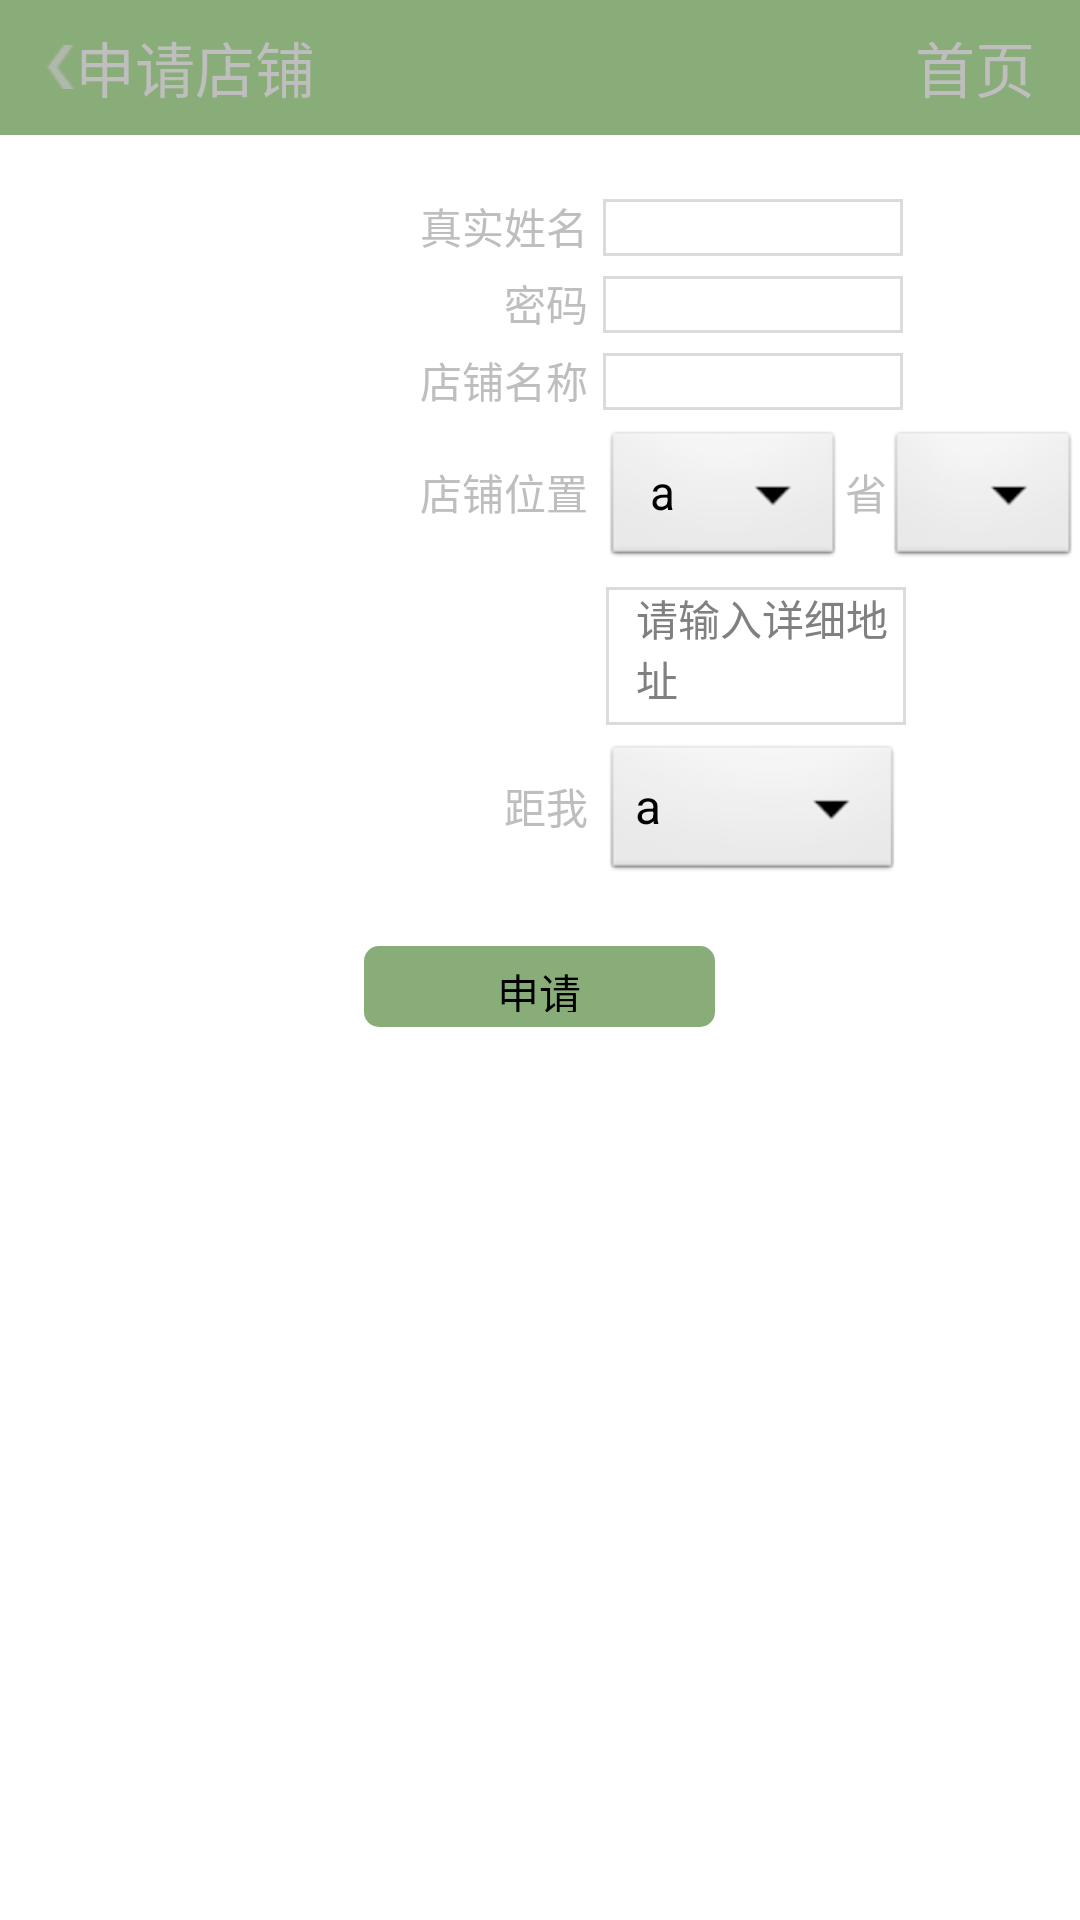

Named icons in this screenshot (1080px×1920px) and their centers, (x=x, y=y):
arrow left: (x=60, y=67)
